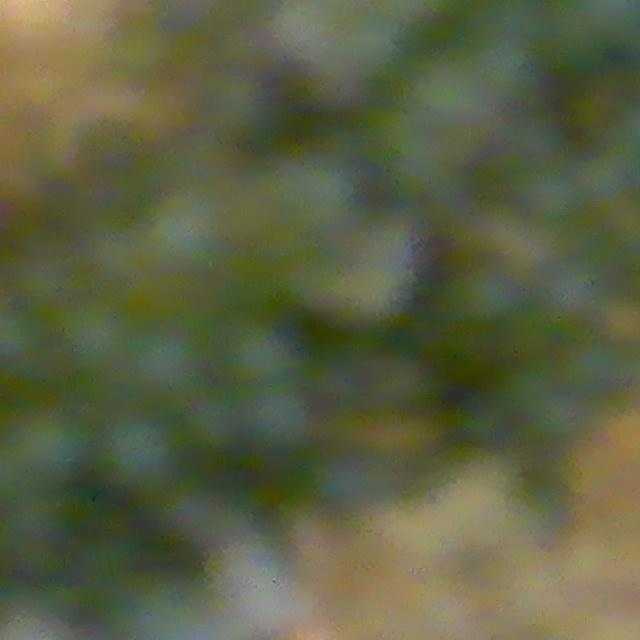SeaGrape: (214, 537, 307, 640), (98, 409, 182, 494), (128, 320, 208, 400), (13, 407, 92, 485), (58, 297, 134, 376), (224, 316, 302, 390), (244, 380, 315, 454), (184, 382, 253, 454)
